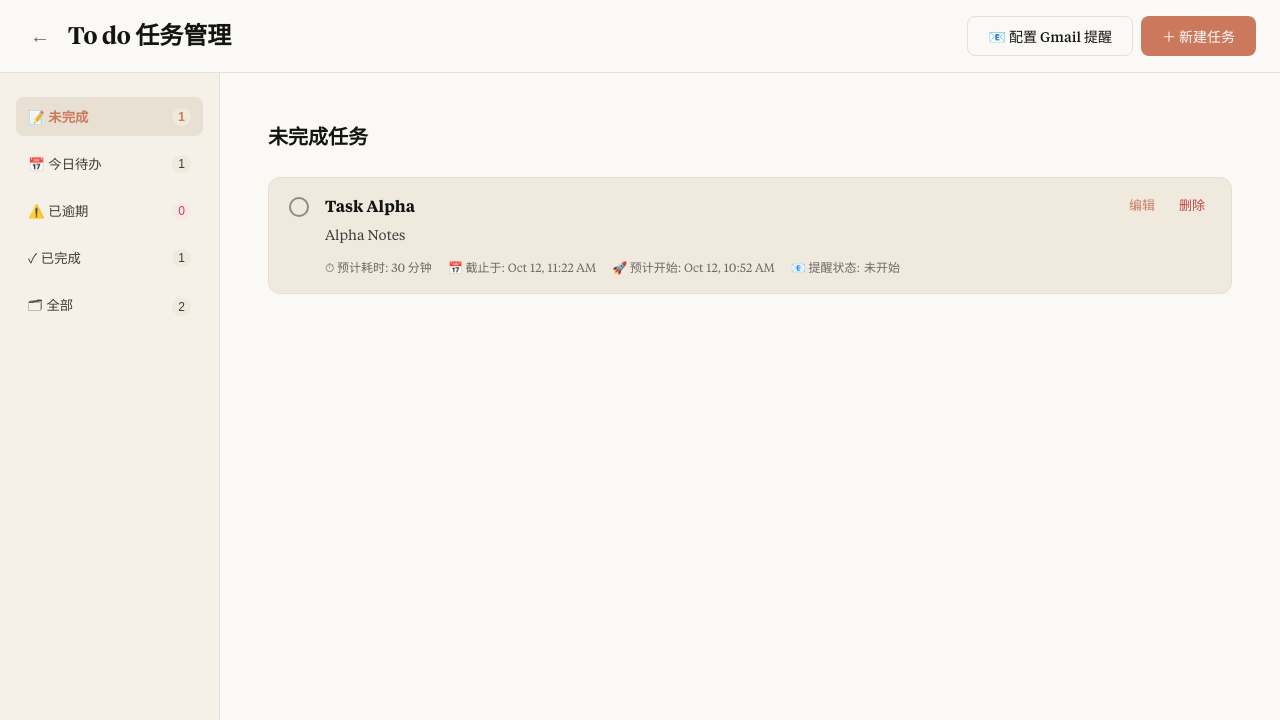
Test: TodoPanel Component › allows switching filter to show completed todos
Find the completed tab and click it
Click the text "✓ 已完成": (54, 258) x1=28 y1=248 x2=81 y2=267
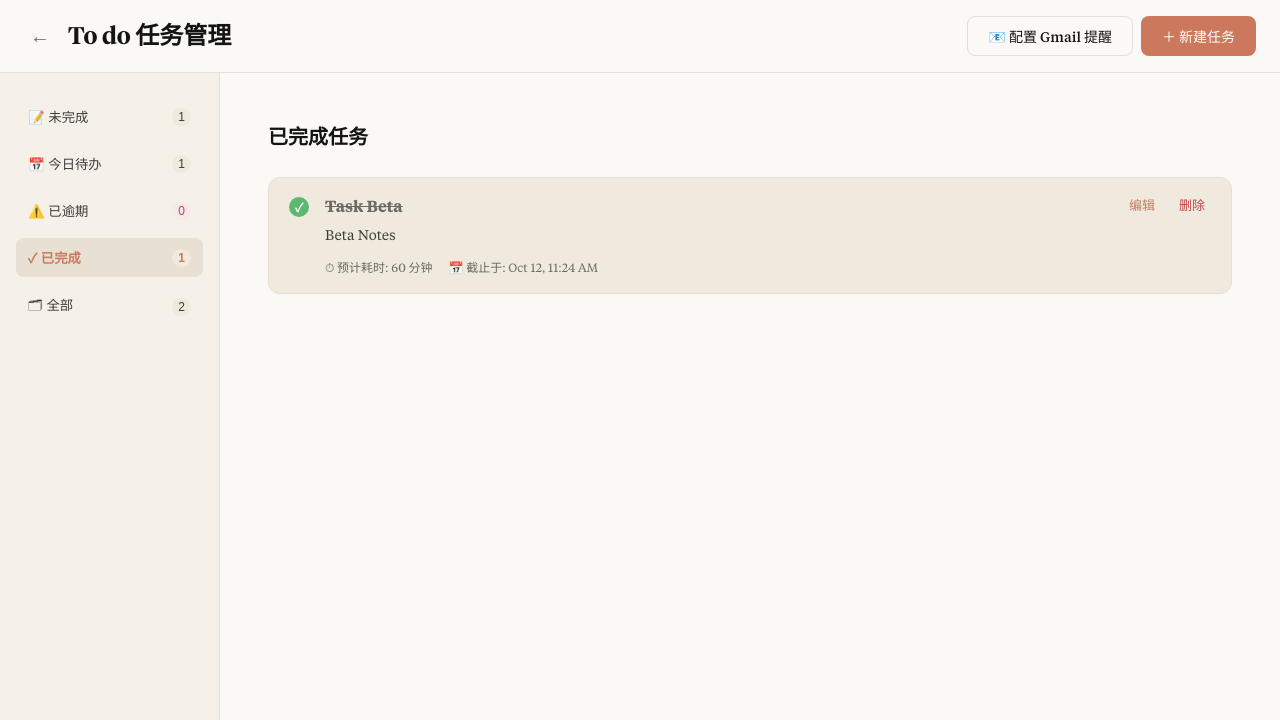
Expected: the heading "Task Beta" is shown, x1=325 y1=194 x2=403 y2=218
Expected: the heading "Task Alpha" is gone
